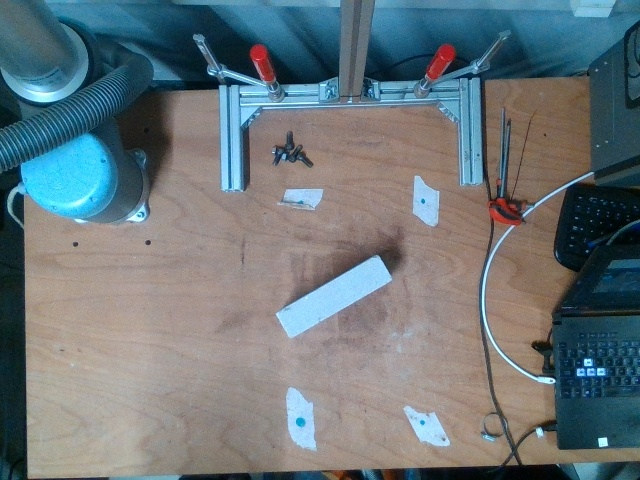brick-side: (273, 253, 392, 340)
